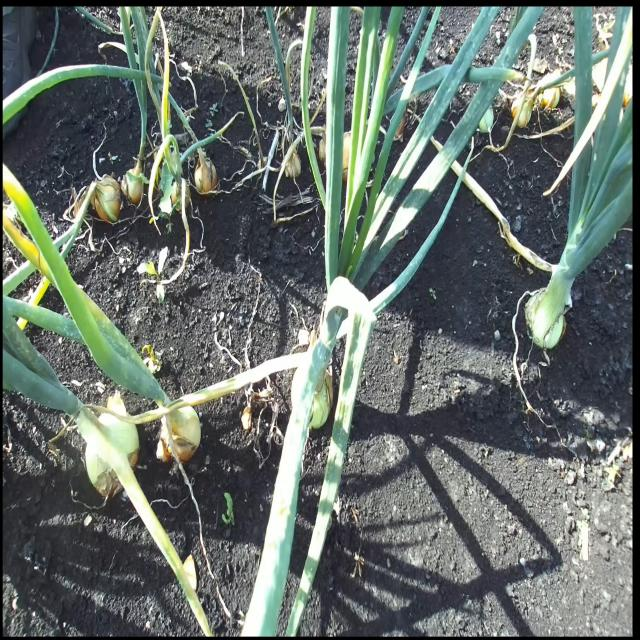onion: (76, 405, 140, 499), (157, 402, 201, 464), (524, 288, 564, 350), (91, 174, 122, 224), (308, 368, 333, 430), (120, 158, 149, 206), (194, 148, 218, 195), (511, 89, 533, 129)
